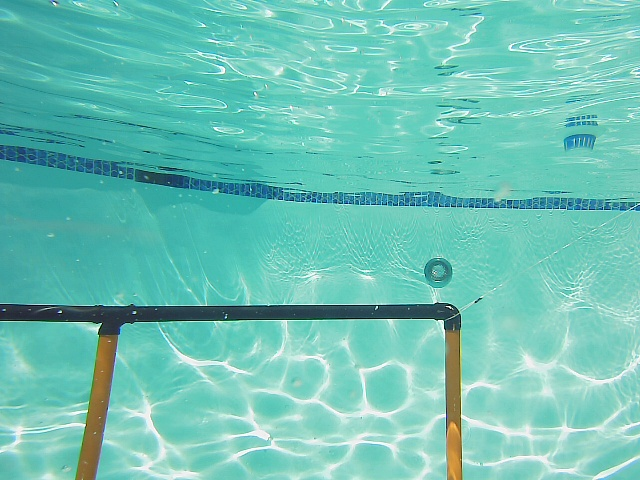Gate: (73, 329, 121, 480), (445, 326, 469, 480)
